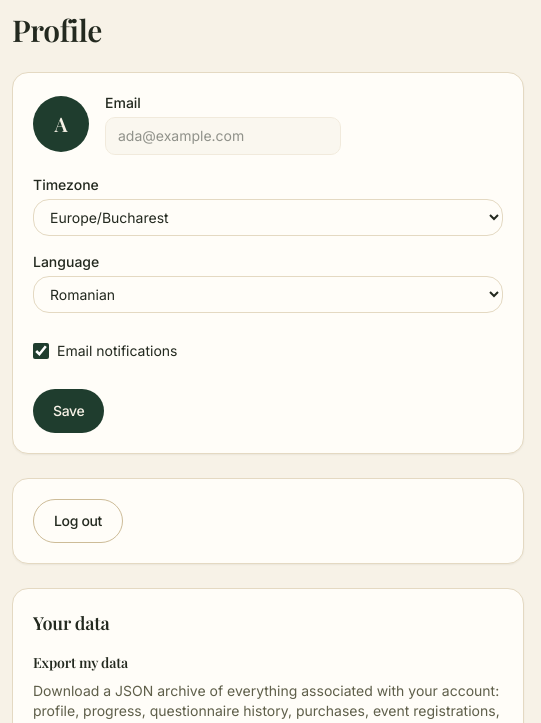
it: ProfilePage › saves changes and shows a confirmation
Expected: the field showing "ada@example.com" is shown, [105,117,341,155]
Select "UTC" in the dropdown labelled "Timezone" at (268, 218), box [33,199,503,236]
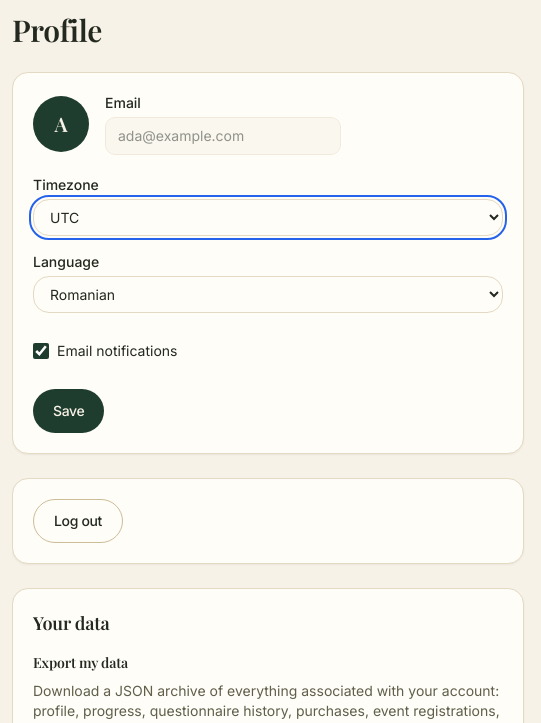
Click the button "Save" at (69, 411), box [33,389,104,433]
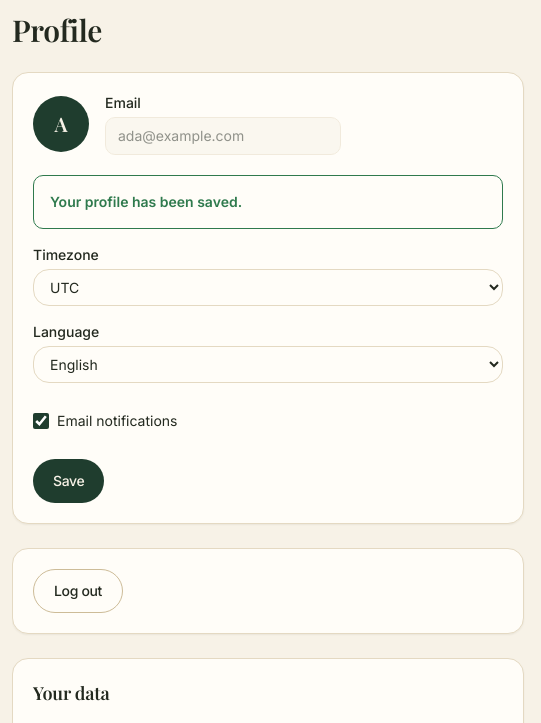
Expected: the text "Your profile has been saved." is shown, [50,192,242,212]
